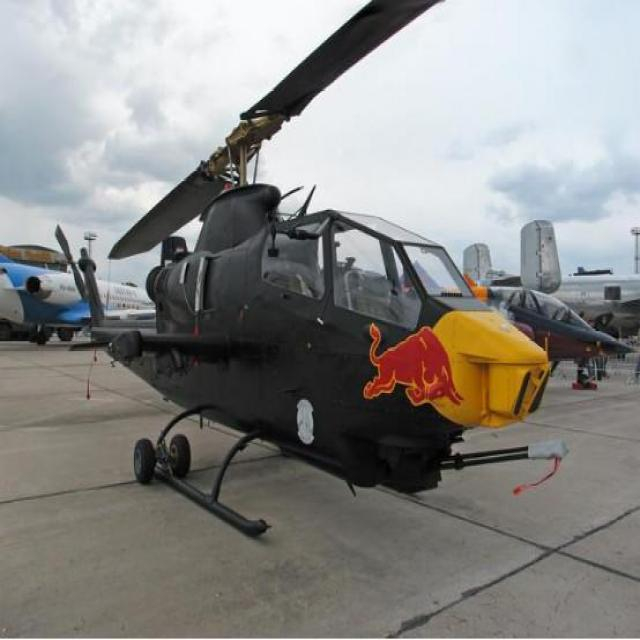MIL_HELO: (61, 0, 585, 594)
